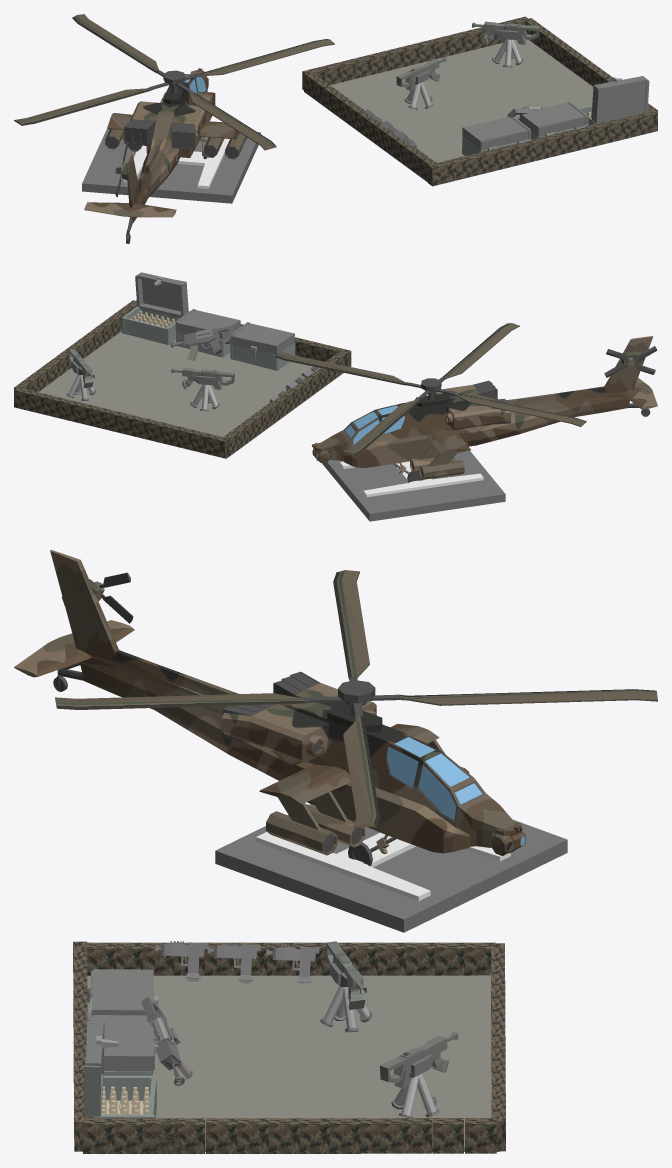
Rendered from base militar 2.gltf.
3 renders of one model, top to bottom at view 1: azimuth 30°, elevation 25°; view 2: azimuth 150°, elevation 25°; view 3: azimuth 270°, elevation 25°, orthographic. The views are drawn at different scales.
Parts seen in each view (by area): view 1: Cubo4, militar (×18), Cube_14, Cubo10, Cube.009_0, abrir5, Cubo (×2), Cube.005_9, Cube.007_10, Cubo11, abrir17, abrir11 (+3 smaller); view 2: Cubo4, Cube_14, Cubo10, Cube.009_0, Cube.001_8, Cubo (×3), Cube.007_10, Cubo11, abrir5, abrir17, Cubo55, abrir11 (+5 smaller); view 3: Cubo4, Cube_14, militar (×19), Cubo10, Cube.009_0, Cube.001_8, Cube.007_10, Cubo (×3), Cubo11, abrir17, abrir11, Cube.005_9 (+6 smaller).
Part boxes in pixels (bbox=[...]): Cubo4: bbox=[304, 38, 593, 182]; militar (×18): bbox=[321, 28, 657, 186]; Cube_14: bbox=[84, 73, 246, 222]; Cubo10: bbox=[82, 128, 260, 203]; Cube.009_0: bbox=[14, 14, 334, 150]; abrir5: bbox=[595, 82, 646, 122]; Cubo (×2): bbox=[396, 21, 539, 90]; Cube.005_9: bbox=[124, 119, 195, 149]; Cube.007_10: bbox=[122, 101, 205, 146]; Cubo11: bbox=[124, 138, 229, 188]; abrir17: bbox=[462, 118, 528, 141]; abrir11: bbox=[521, 103, 585, 127]; Cubo4: bbox=[38, 331, 343, 458]; Cube_14: bbox=[318, 336, 657, 479]; Cubo10: bbox=[322, 450, 505, 521]; Cube.009_0: bbox=[276, 323, 586, 455]; Cube.001_8: bbox=[344, 430, 468, 482]; Cubo (×3): bbox=[68, 326, 234, 389]; Cube.007_10: bbox=[434, 385, 510, 429]; Cubo11: bbox=[340, 461, 483, 497]; abrir5: bbox=[141, 279, 188, 312]; abrir17: bbox=[234, 323, 294, 347]; Cubo55: bbox=[124, 317, 168, 344]; abrir11: bbox=[179, 310, 240, 334]; Cubo4: bbox=[87, 975, 499, 1151]; Cube_14: bbox=[14, 550, 515, 855]; militar (×19): bbox=[83, 942, 496, 1153]; Cubo10: bbox=[215, 804, 567, 932]; Cube.009_0: bbox=[55, 570, 657, 827]; Cube.001_8: bbox=[291, 762, 470, 865]; Cube.007_10: bbox=[221, 683, 376, 762]; Cubo (×3): bbox=[141, 941, 458, 1088]; Cubo11: bbox=[256, 832, 510, 901]; abrir17: bbox=[92, 969, 153, 1008]; abrir11: bbox=[93, 1015, 153, 1054]; Cube.005_9: bbox=[223, 671, 319, 742].
Bounding box in the file's own units: 17.66 × 3.45 × 10.65.
288 materials, 68 textured.
